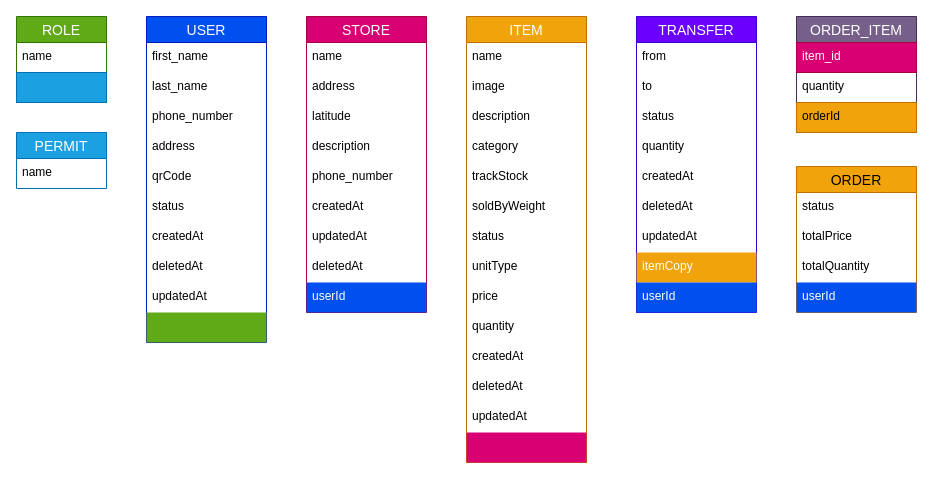
Image size: 933x479. Some labels were removed from this diagram. The centre of each missing label's shape, as x and y in pixels:
"permit [ids]" belongs at pixel 61 87.
"role_id" belongs at pixel 206 327.
"storeId" belongs at pixel 526 447.
